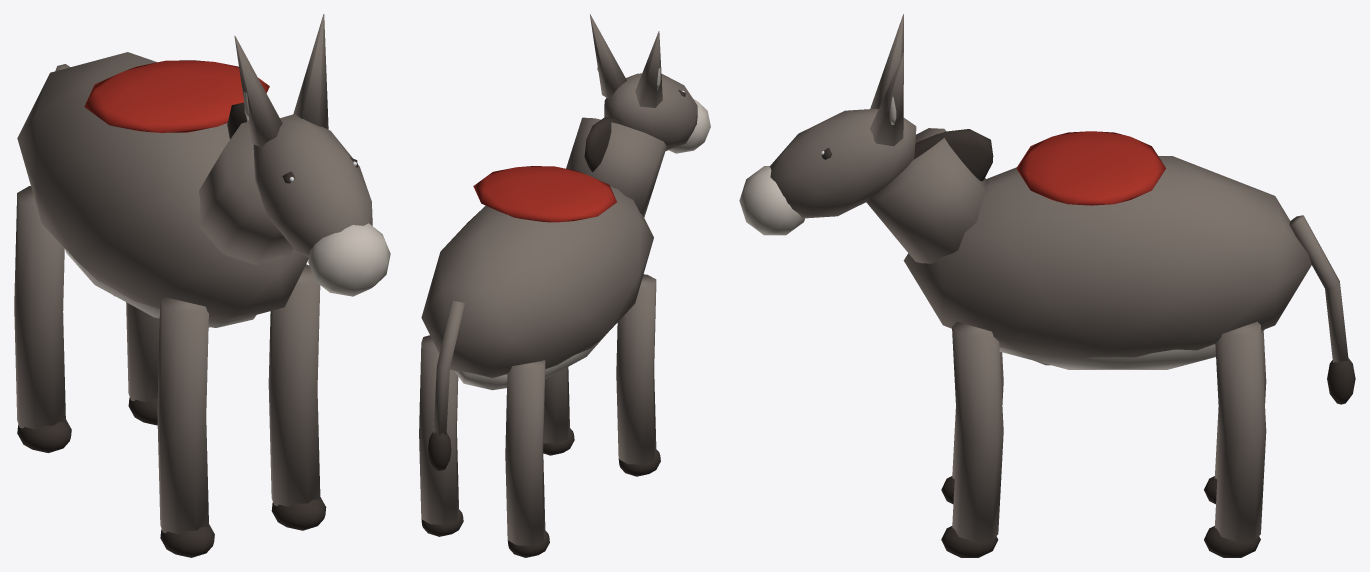
The model's file is donkey.glb.
3 views of the same model, side by side, from view 1: azimuth 30°, elevation 25°; view 2: azimuth 150°, elevation 25°; view 3: azimuth 270°, elevation 25° (orthographic). The views are drawn at different scales.
Visible parts, largest first — view 1: donkey.body, donkey.head; view 2: donkey.body, donkey.head, donkey.tail; view 3: donkey.body, donkey.head, donkey.tail.
Boxes of the visible parts, <box> form: donkey.body: <box>14,52,326,557</box>; donkey.head: <box>234,14,390,296</box>; donkey.body: <box>419,117,666,557</box>; donkey.head: <box>590,14,710,153</box>; donkey.tail: <box>428,300,464,471</box>; donkey.body: <box>866,128,1311,557</box>; donkey.head: <box>739,14,916,235</box>; donkey.tail: <box>1289,215,1355,404</box>.
Bounding box in the file's own units: 1.14 × 3.07 × 3.45.
